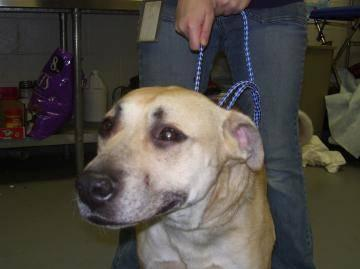dog: (75, 86, 274, 269)
